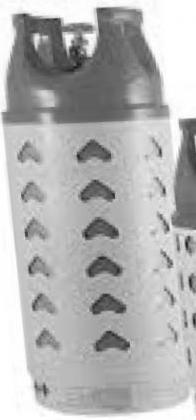cylinder: (1, 0, 196, 420)
